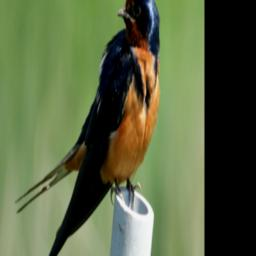Swallow: (15, 0, 162, 256)
